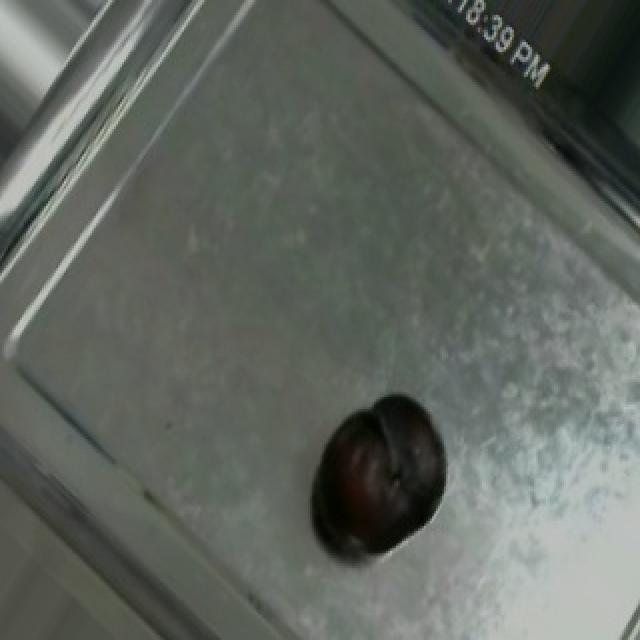Fruit: (296, 377, 464, 573)
